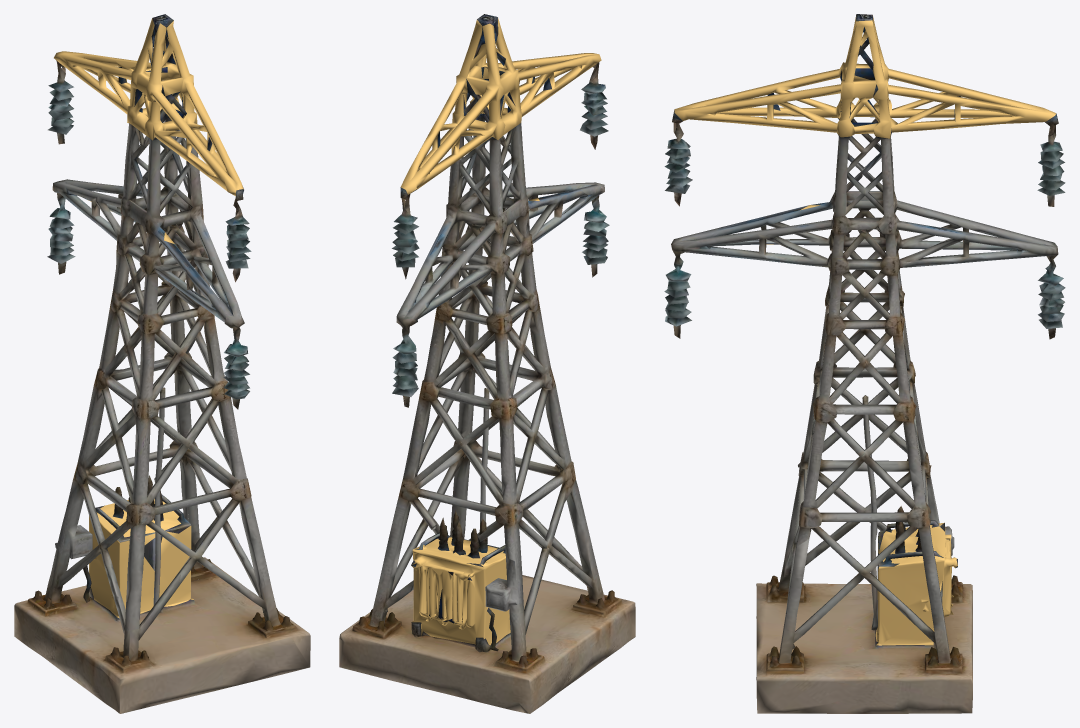
Rendered from pylon.glb.
3 views of the same model, side by side, from view 1: azimuth 30°, elevation 25°; view 2: azimuth 150°, elevation 25°; view 3: azimuth 270°, elevation 25° (orthographic). The views are drawn at different scales.
Visible parts, largest first — view 1: Model; view 2: Model; view 3: Model.
Part boxes in pixels (x1,y1,x2,y2): Model: (14,14,310,713); Model: (339,14,635,713); Model: (664,14,1065,713).
Bounding box in the file's own units: 1.13 × 3.58 × 2.
2 materials, 1 textured.
